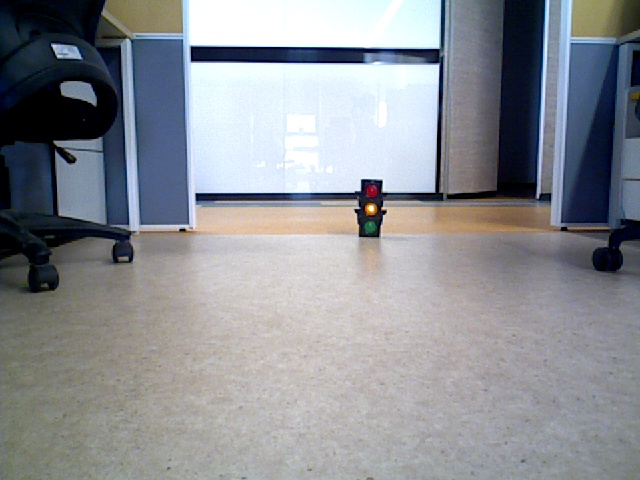yellow: (359, 180, 380, 233)
